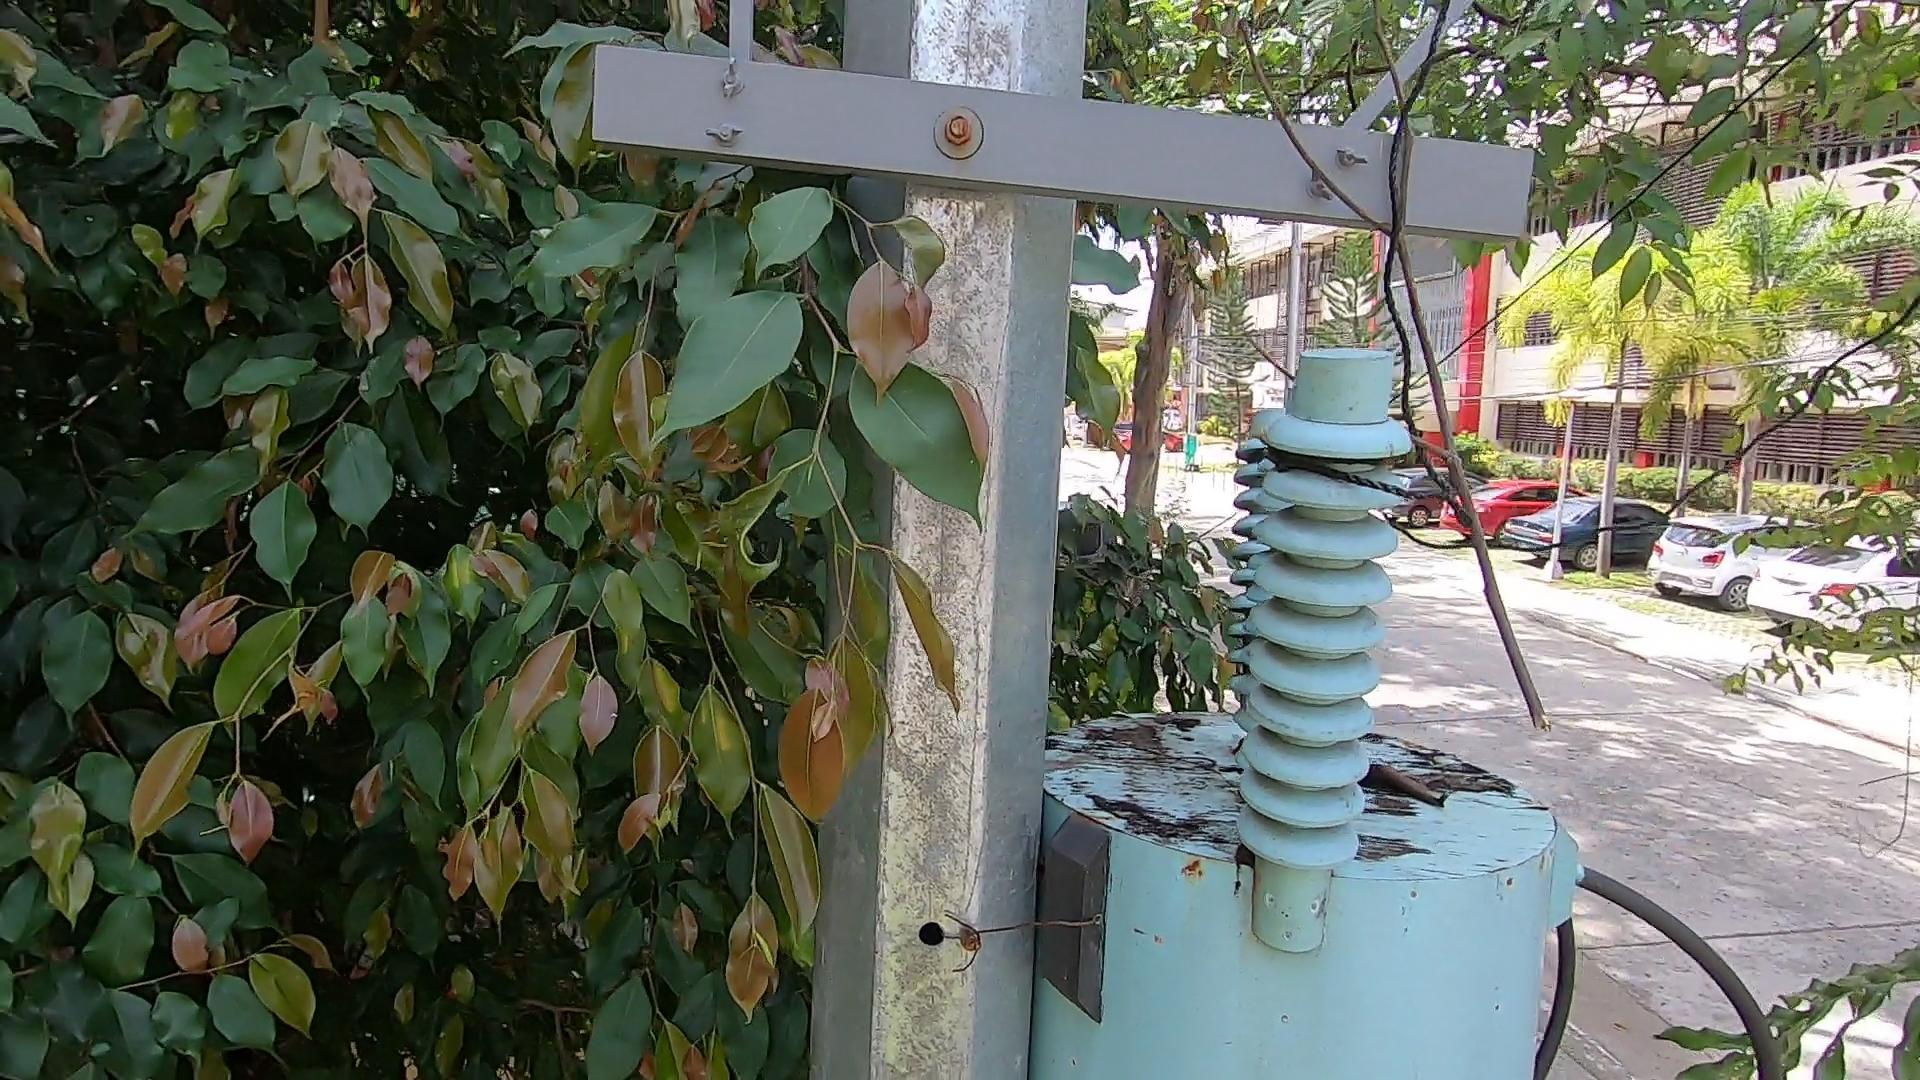leaf: (1370, 756, 1470, 814)
tree branch: (1217, 11, 1588, 738)
